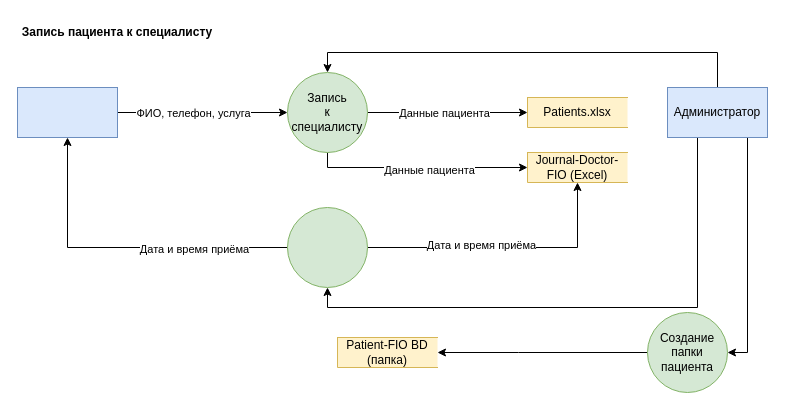
Some shapes in this 785 by 410 pixel diagram are drawn without their labels. The shapes that lost their labels are listed below. From the top down, each one's centre as x and y in pixels, then its label:
(67,112): Пациент
(327,247): Назначение времени приёма
